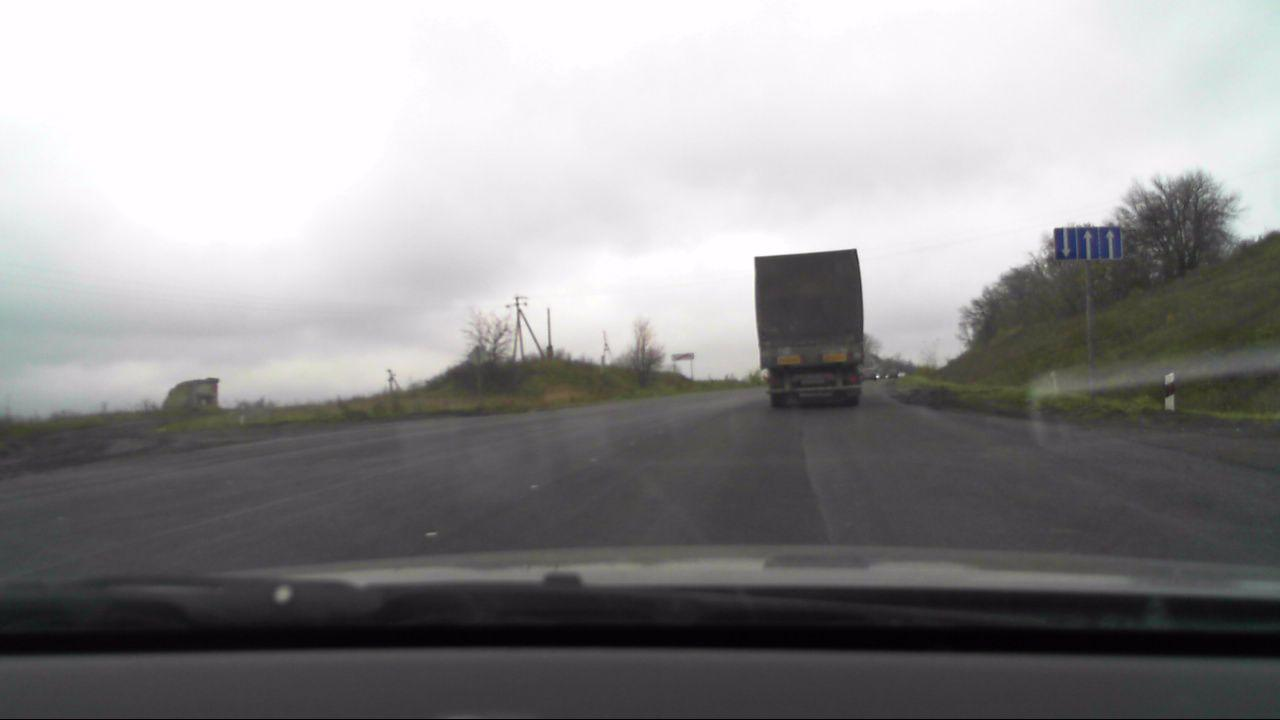5_15_7: (1055, 229, 1124, 262)
